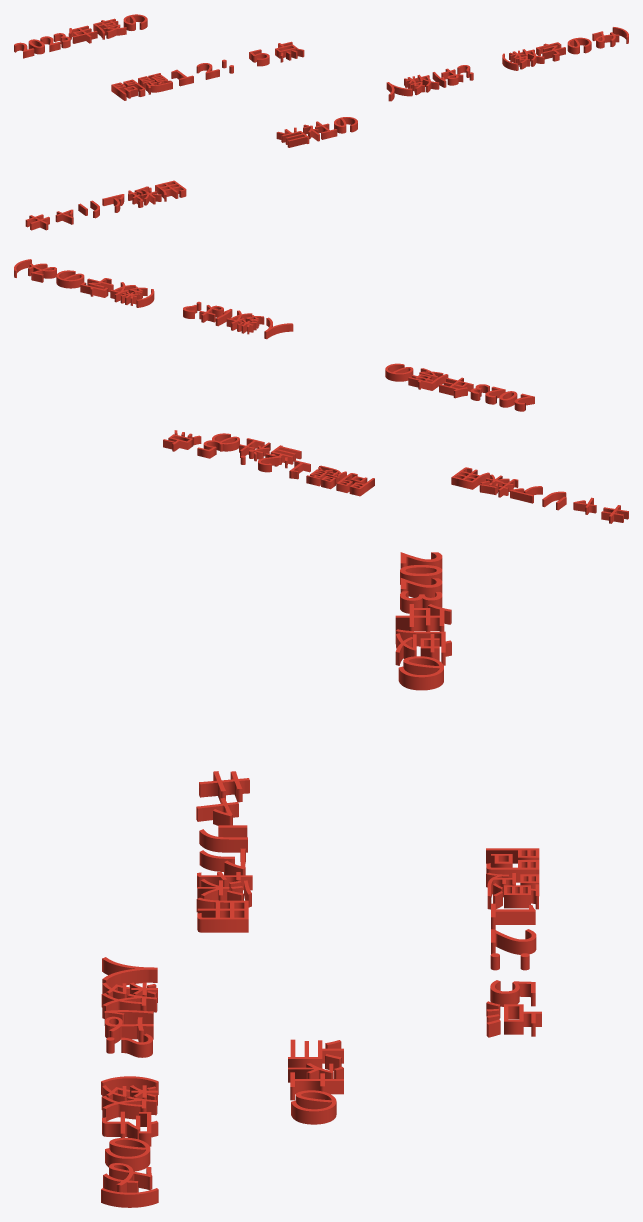
The picture shows the model from 3 angles, top to bottom: view 1: azimuth 30°, elevation 25°; view 2: azimuth 150°, elevation 25°; view 3: azimuth 270°, elevation 25°; orthographic projection. The views are drawn at different scales.
Parts seen in each view (by area): view 1: テキスト.003, テキスト.004, テキスト.001, テキスト.002, テキスト.005; view 2: テキスト.003, テキスト.004, テキスト.001, テキスト.002, テキスト.005; view 3: テキスト.003, テキスト.004, テキスト.002, テキスト.001, テキスト.005.
Boxes of the visible parts, <box> form: テキスト.003: <box>386,27,628,101</box>; テキスト.004: <box>111,41,304,100</box>; テキスト.001: <box>14,14,147,58</box>; テキスト.002: <box>25,180,186,230</box>; テキスト.005: <box>276,117,357,147</box>; テキスト.003: <box>14,259,293,339</box>; テキスト.004: <box>163,430,374,496</box>; テキスト.001: <box>385,363,534,411</box>; テキスト.002: <box>451,467,628,523</box>; テキスト.005: <box>212,433,301,468</box>; テキスト.003: <box>101,957,158,1207</box>; テキスト.004: <box>486,848,541,1037</box>; テキスト.002: <box>196,771,252,932</box>; テキスト.001: <box>395,552,451,690</box>; テキスト.005: <box>288,1039,343,1124</box>.
Size of the model in its own units: 21.83 by 4.9 by 7.26.
